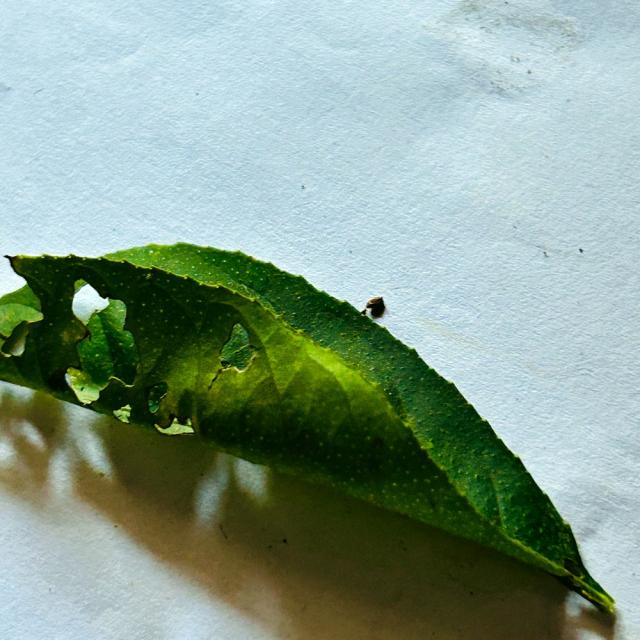Deficiency Leaf: (66, 300, 137, 403), (0, 285, 43, 356), (218, 323, 263, 376), (72, 279, 109, 321)
Lemon: (0, 244, 611, 611)
